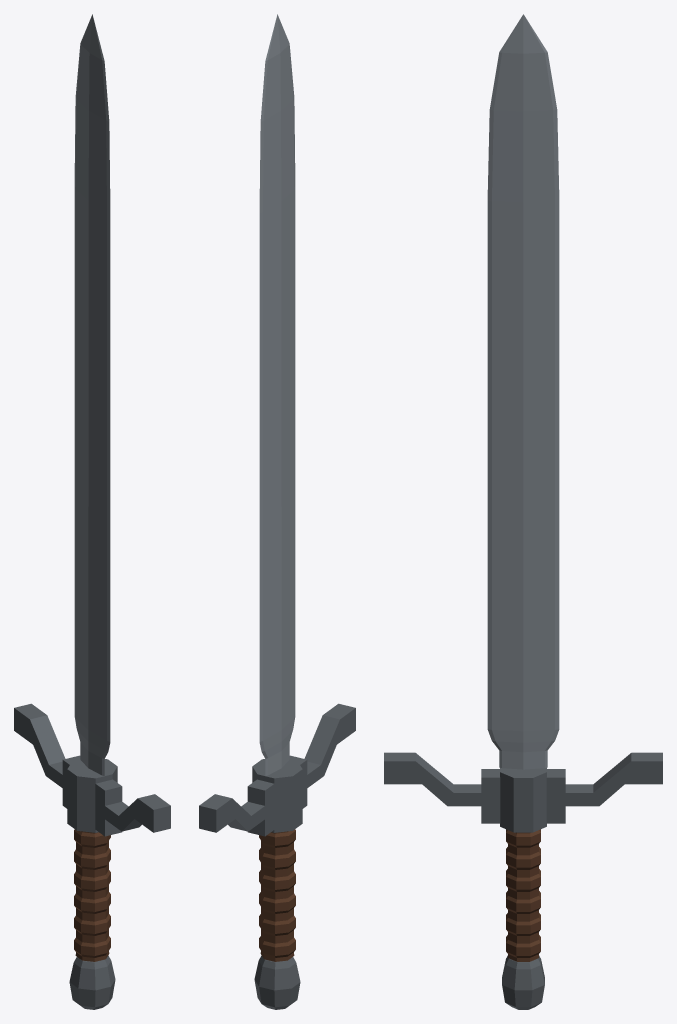
File: WP_Sword_03.glb
3 renders of one model, left to right at view 1: azimuth 30°, elevation 25°; view 2: azimuth 150°, elevation 25°; view 3: azimuth 270°, elevation 25°, orthographic.
Parts seen in each view (by area): view 1: WP_Sword_03; view 2: WP_Sword_03; view 3: WP_Sword_03.
Part boxes in pixels (box(x1,y1,x2,y2)): WP_Sword_03: box(14, 14, 170, 1009); WP_Sword_03: box(199, 14, 355, 1009); WP_Sword_03: box(384, 14, 662, 1009).
Bounding box in the file's own units: 0.0443 × 1.03 × 0.264.
